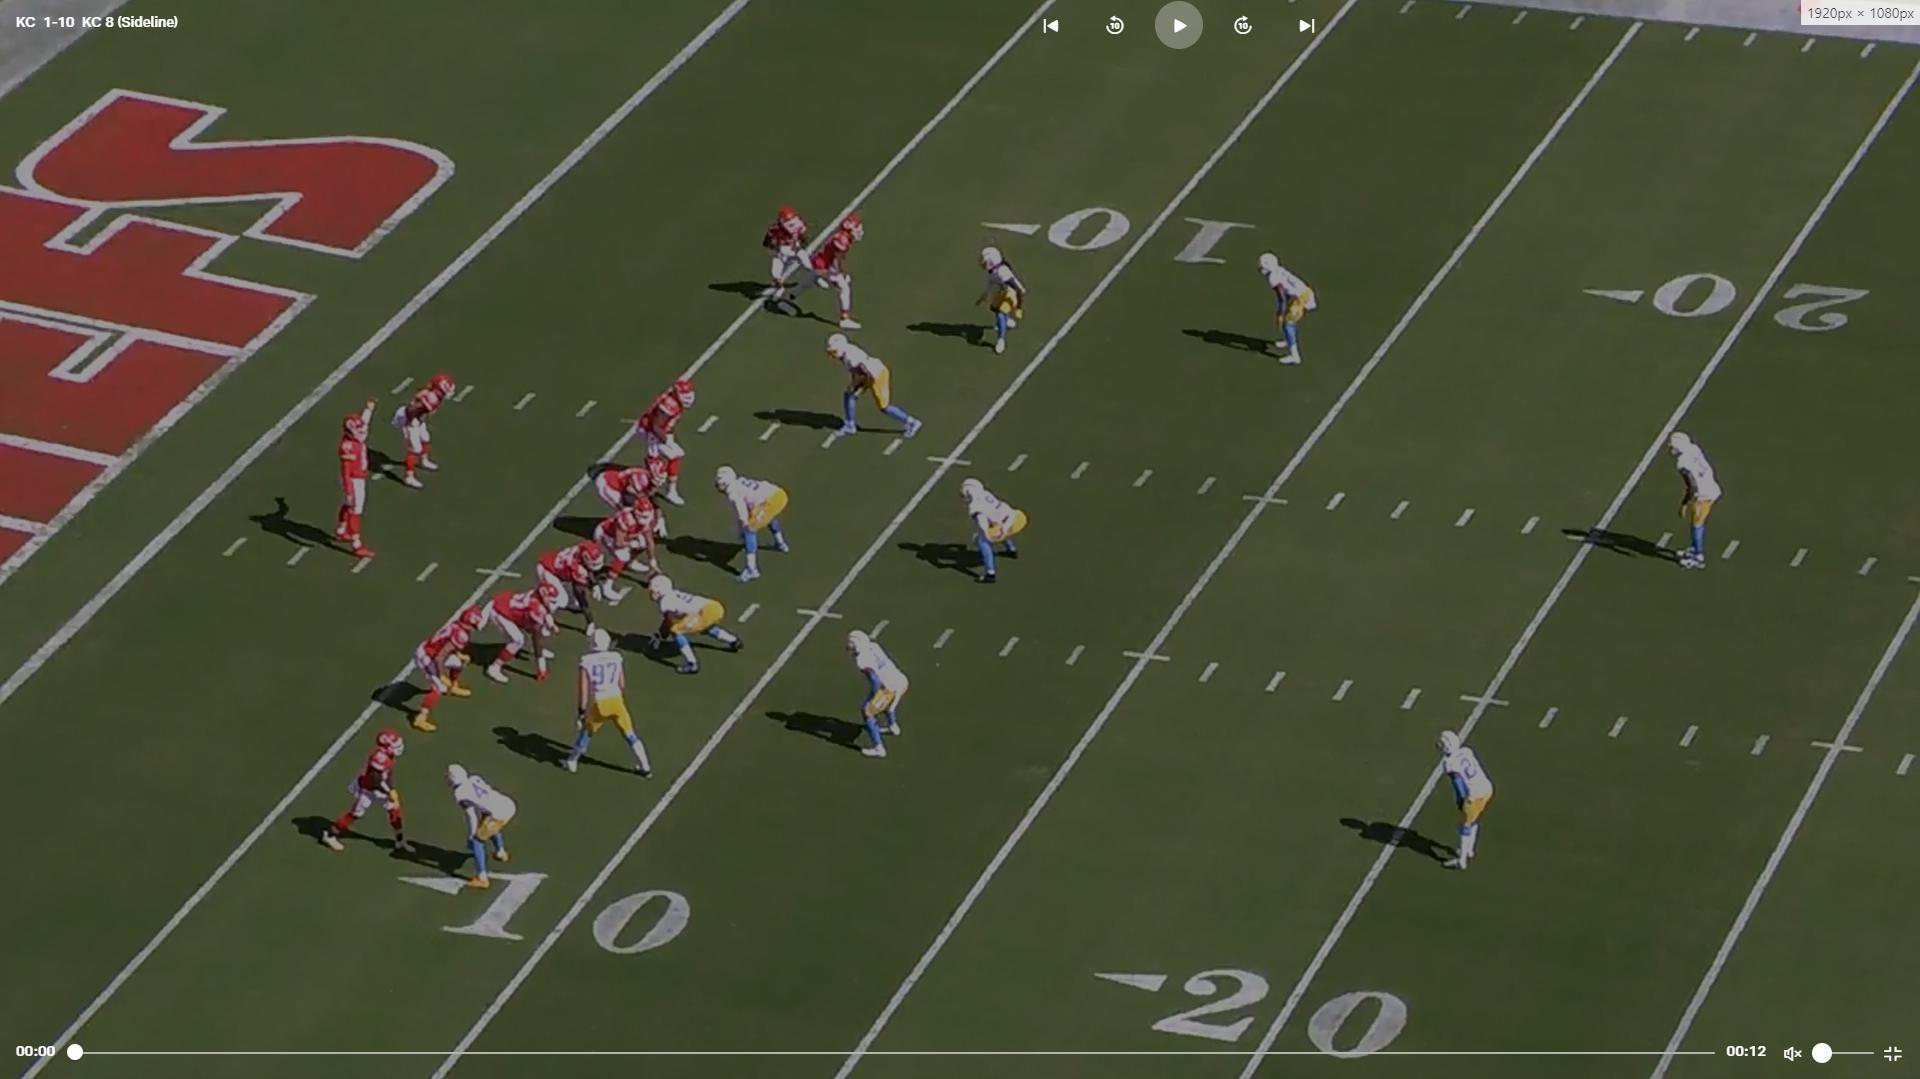player: (568, 625, 656, 779), (317, 719, 413, 857), (822, 331, 925, 451), (639, 568, 742, 678), (789, 211, 876, 338), (703, 462, 792, 583), (407, 599, 484, 734), (1435, 731, 1502, 880), (443, 762, 516, 890), (1668, 425, 1728, 576), (843, 628, 908, 767), (330, 400, 382, 570), (635, 373, 700, 504), (390, 367, 458, 492), (483, 587, 565, 690), (957, 474, 1026, 588), (1257, 250, 1318, 372), (594, 502, 669, 601), (765, 204, 825, 327), (539, 538, 618, 626), (973, 241, 1025, 360), (595, 462, 675, 538)
